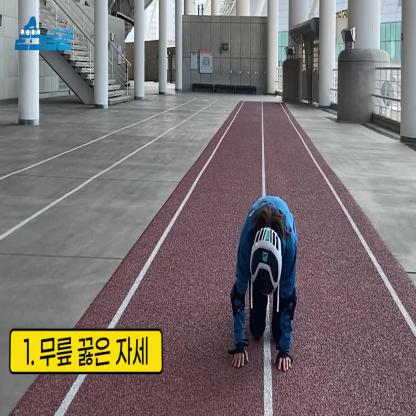Fall_Down: (233, 196, 296, 374)
